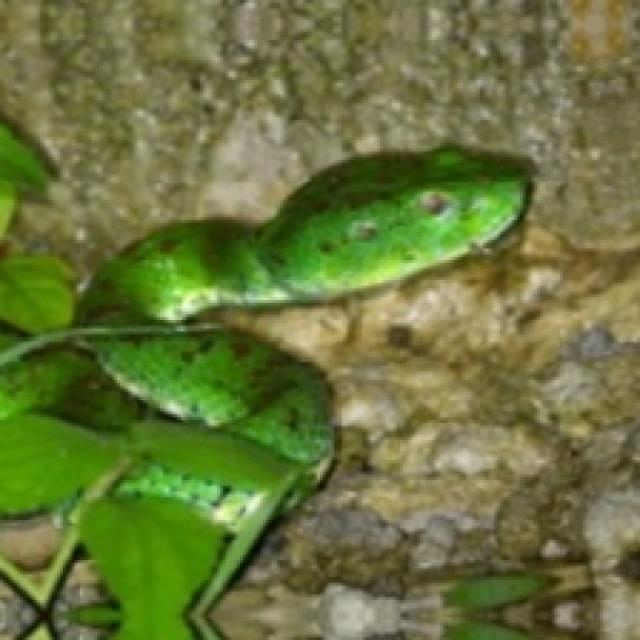philippine pitviper: (85, 146, 528, 323), (90, 331, 332, 484), (115, 464, 229, 512)
